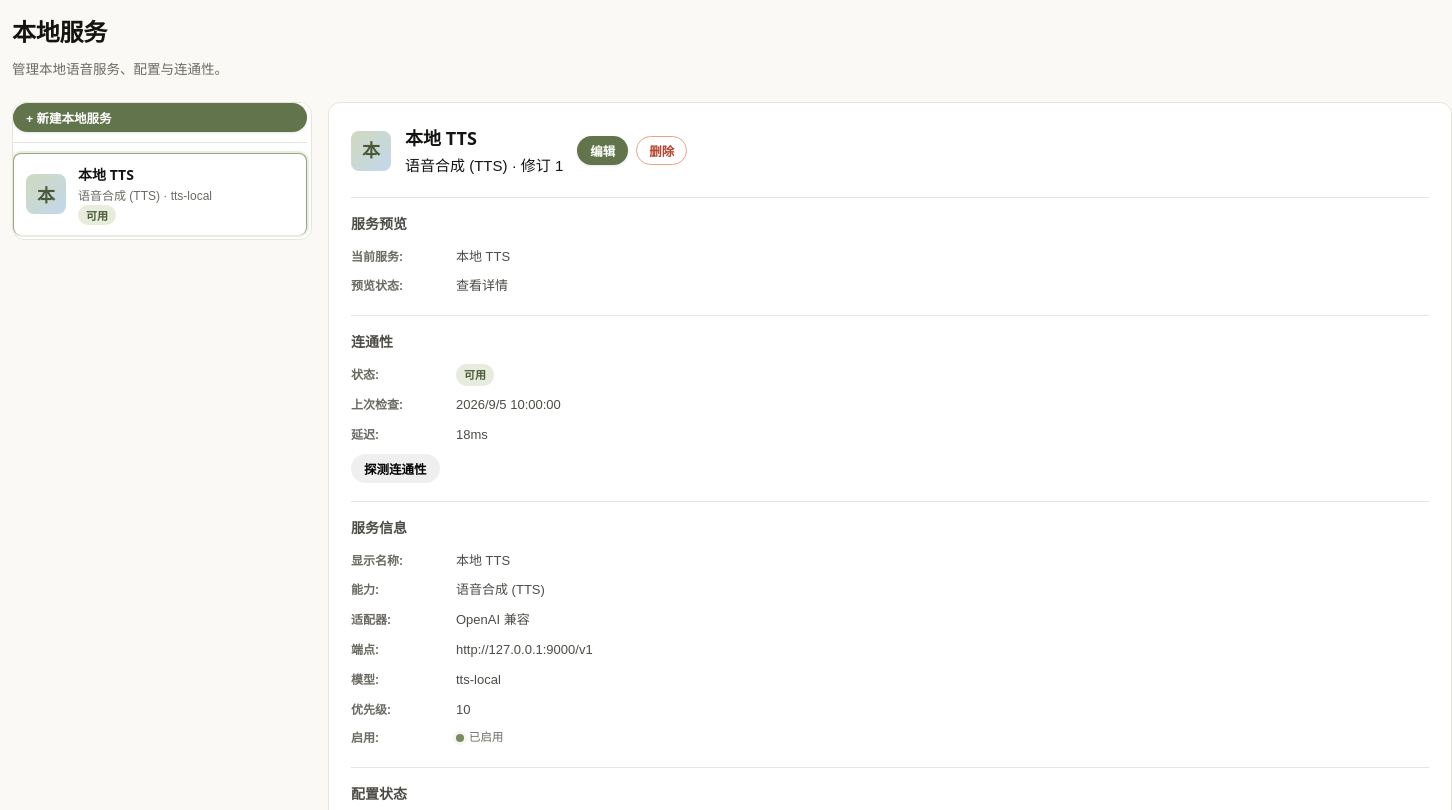
Test: VoiceAlignmentPage › runs the selected service probe and displays its real result
Click the button "探测连通性" at (395, 468), box [351,454,440,483]
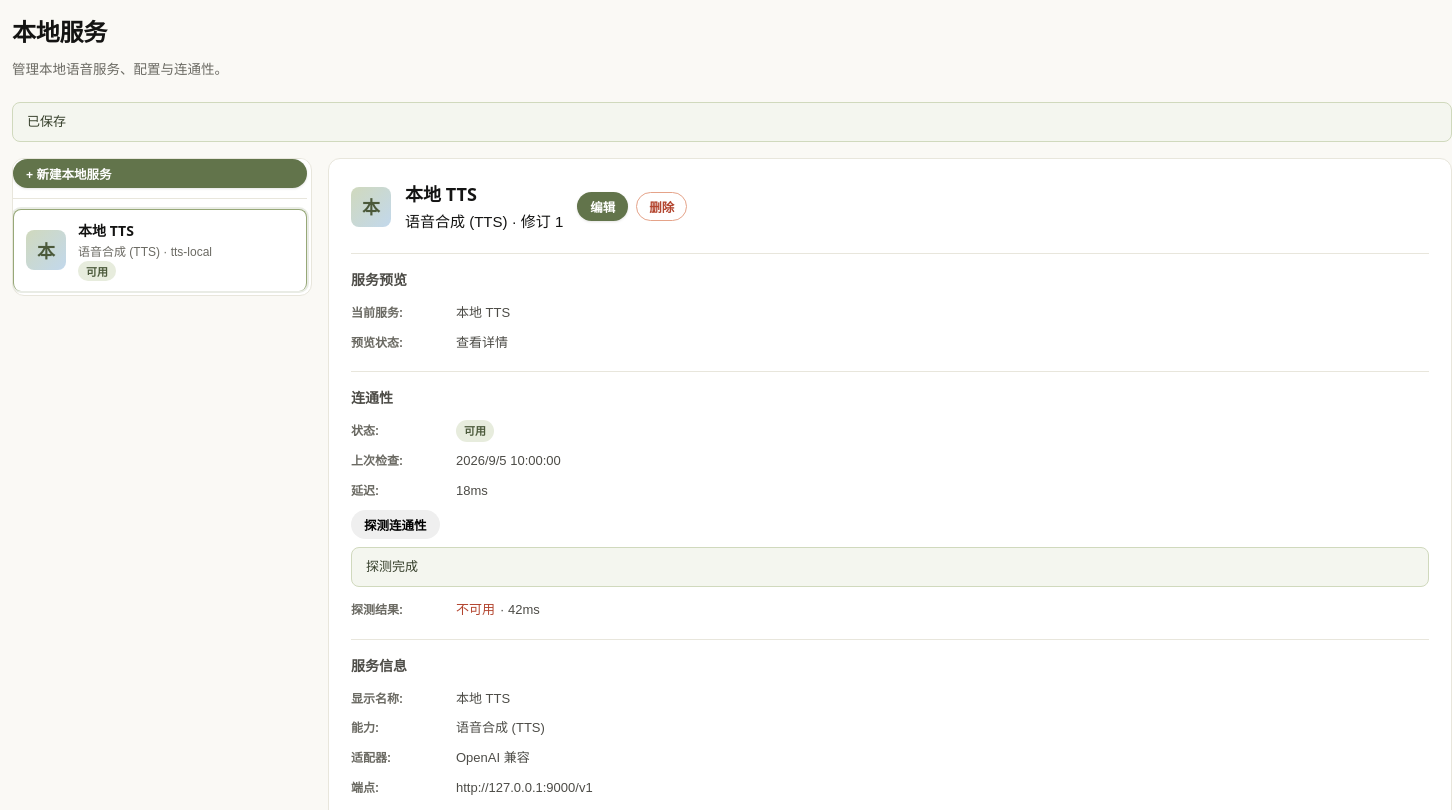
Result: the text "探测完成" is shown at [351,547,1429,587]
Result: the text "不可用" is shown at [456,599,495,620]
Result: the text "· 42ms" is shown at [500,602,540,617]
